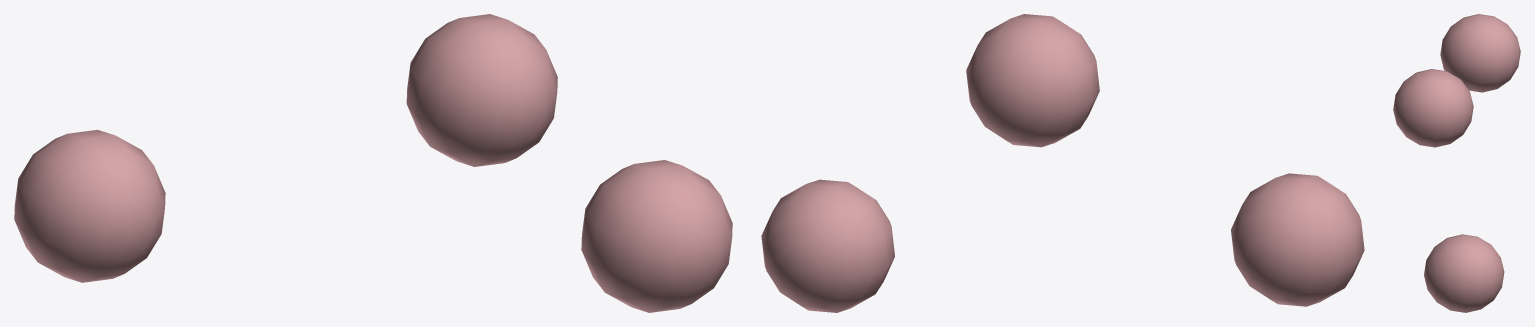
The picture shows the model from 3 angles, left to right: view 1: azimuth 30°, elevation 25°; view 2: azimuth 150°, elevation 25°; view 3: azimuth 270°, elevation 25°; orthographic projection. The views are drawn at different scales.
Visible parts, largest first — view 1: ZA_c567b44cb8c4b44b; view 2: ZA_c567b44cb8c4b44b; view 3: ZA_c567b44cb8c4b44b.
Part boxes in pixels (<box>): ZA_c567b44cb8c4b44b: <box>14,14,732,312</box>; ZA_c567b44cb8c4b44b: <box>761,14,1364,312</box>; ZA_c567b44cb8c4b44b: <box>1393,14,1520,312</box>.
Bounding box in the file's own units: 0.0133 × 0.00661 × 0.00412.
